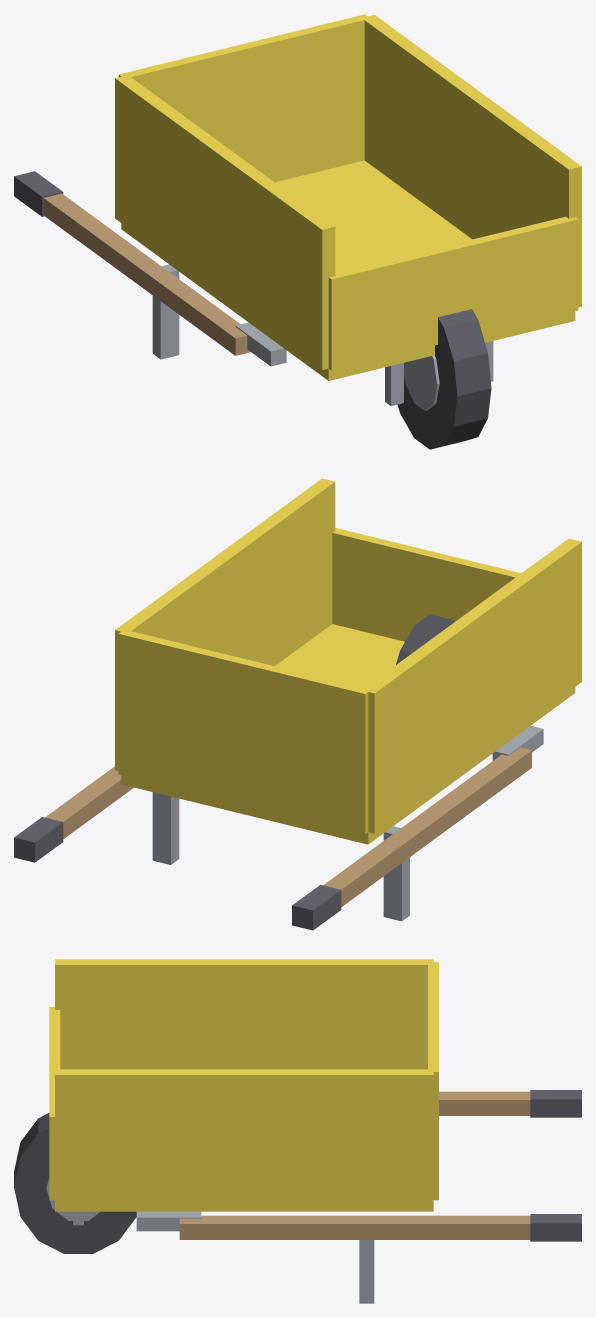
Rendered from cart.glb.
3 renders of one model, top to bottom at view 1: azimuth 30°, elevation 25°; view 2: azimuth 150°, elevation 25°; view 3: azimuth 270°, elevation 25°, orthographic. The views are drawn at different scales.
Visible parts, largest first — view 1: cart; view 2: cart; view 3: cart.
Part boxes in pixels (x1,y1,x2,y2): cart: (14,14,581,449); cart: (14,478,581,930); cart: (14,959,581,1303).
Bounding box in the file's own units: 1.25 × 1.01 × 2.25.
